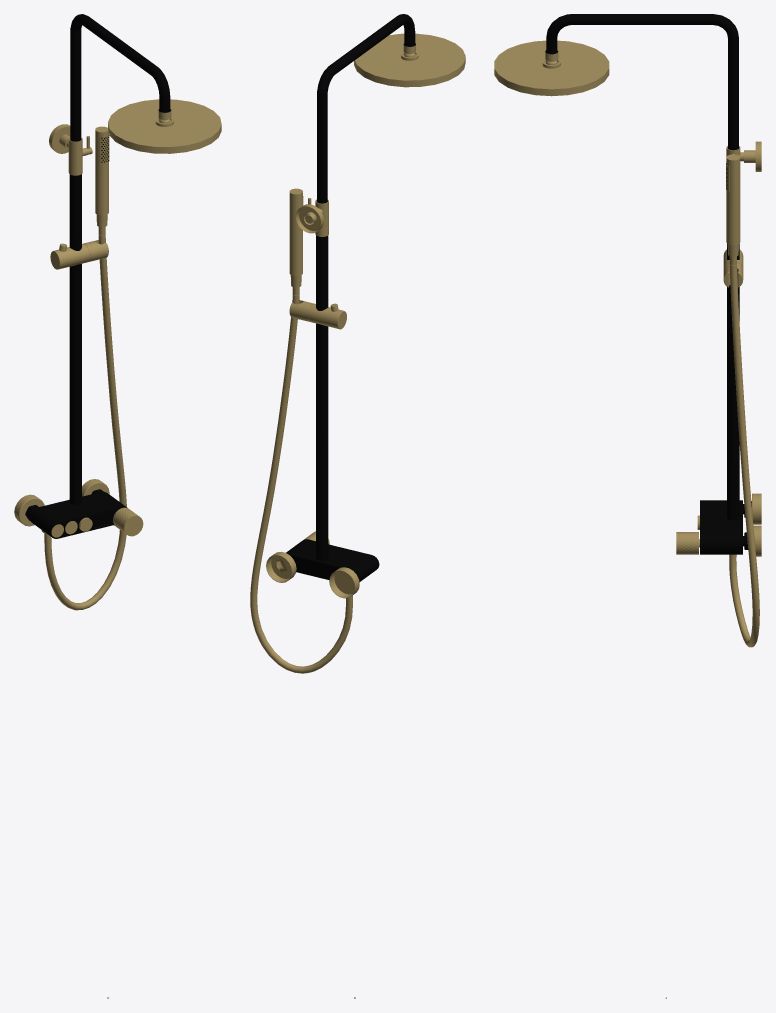
The model's file is STICK_BOHEME_04.glb.
3 views of the same model, side by side, from view 1: azimuth 30°, elevation 25°; view 2: azimuth 150°, elevation 25°; view 3: azimuth 270°, elevation 25° (orthographic). The views are drawn at different scales.
Visible parts, largest first — view 1: Group016; view 2: Group016; view 3: Group016.
Part boxes in pixels (left/top/right/bottom): Group016: left=14, top=14, right=221, bottom=610; Group016: left=250, top=14, right=465, bottom=673; Group016: left=494, top=14, right=761, bottom=647.
Bounding box in the file's own units: 0.2592 × 2.15 × 0.5298.
